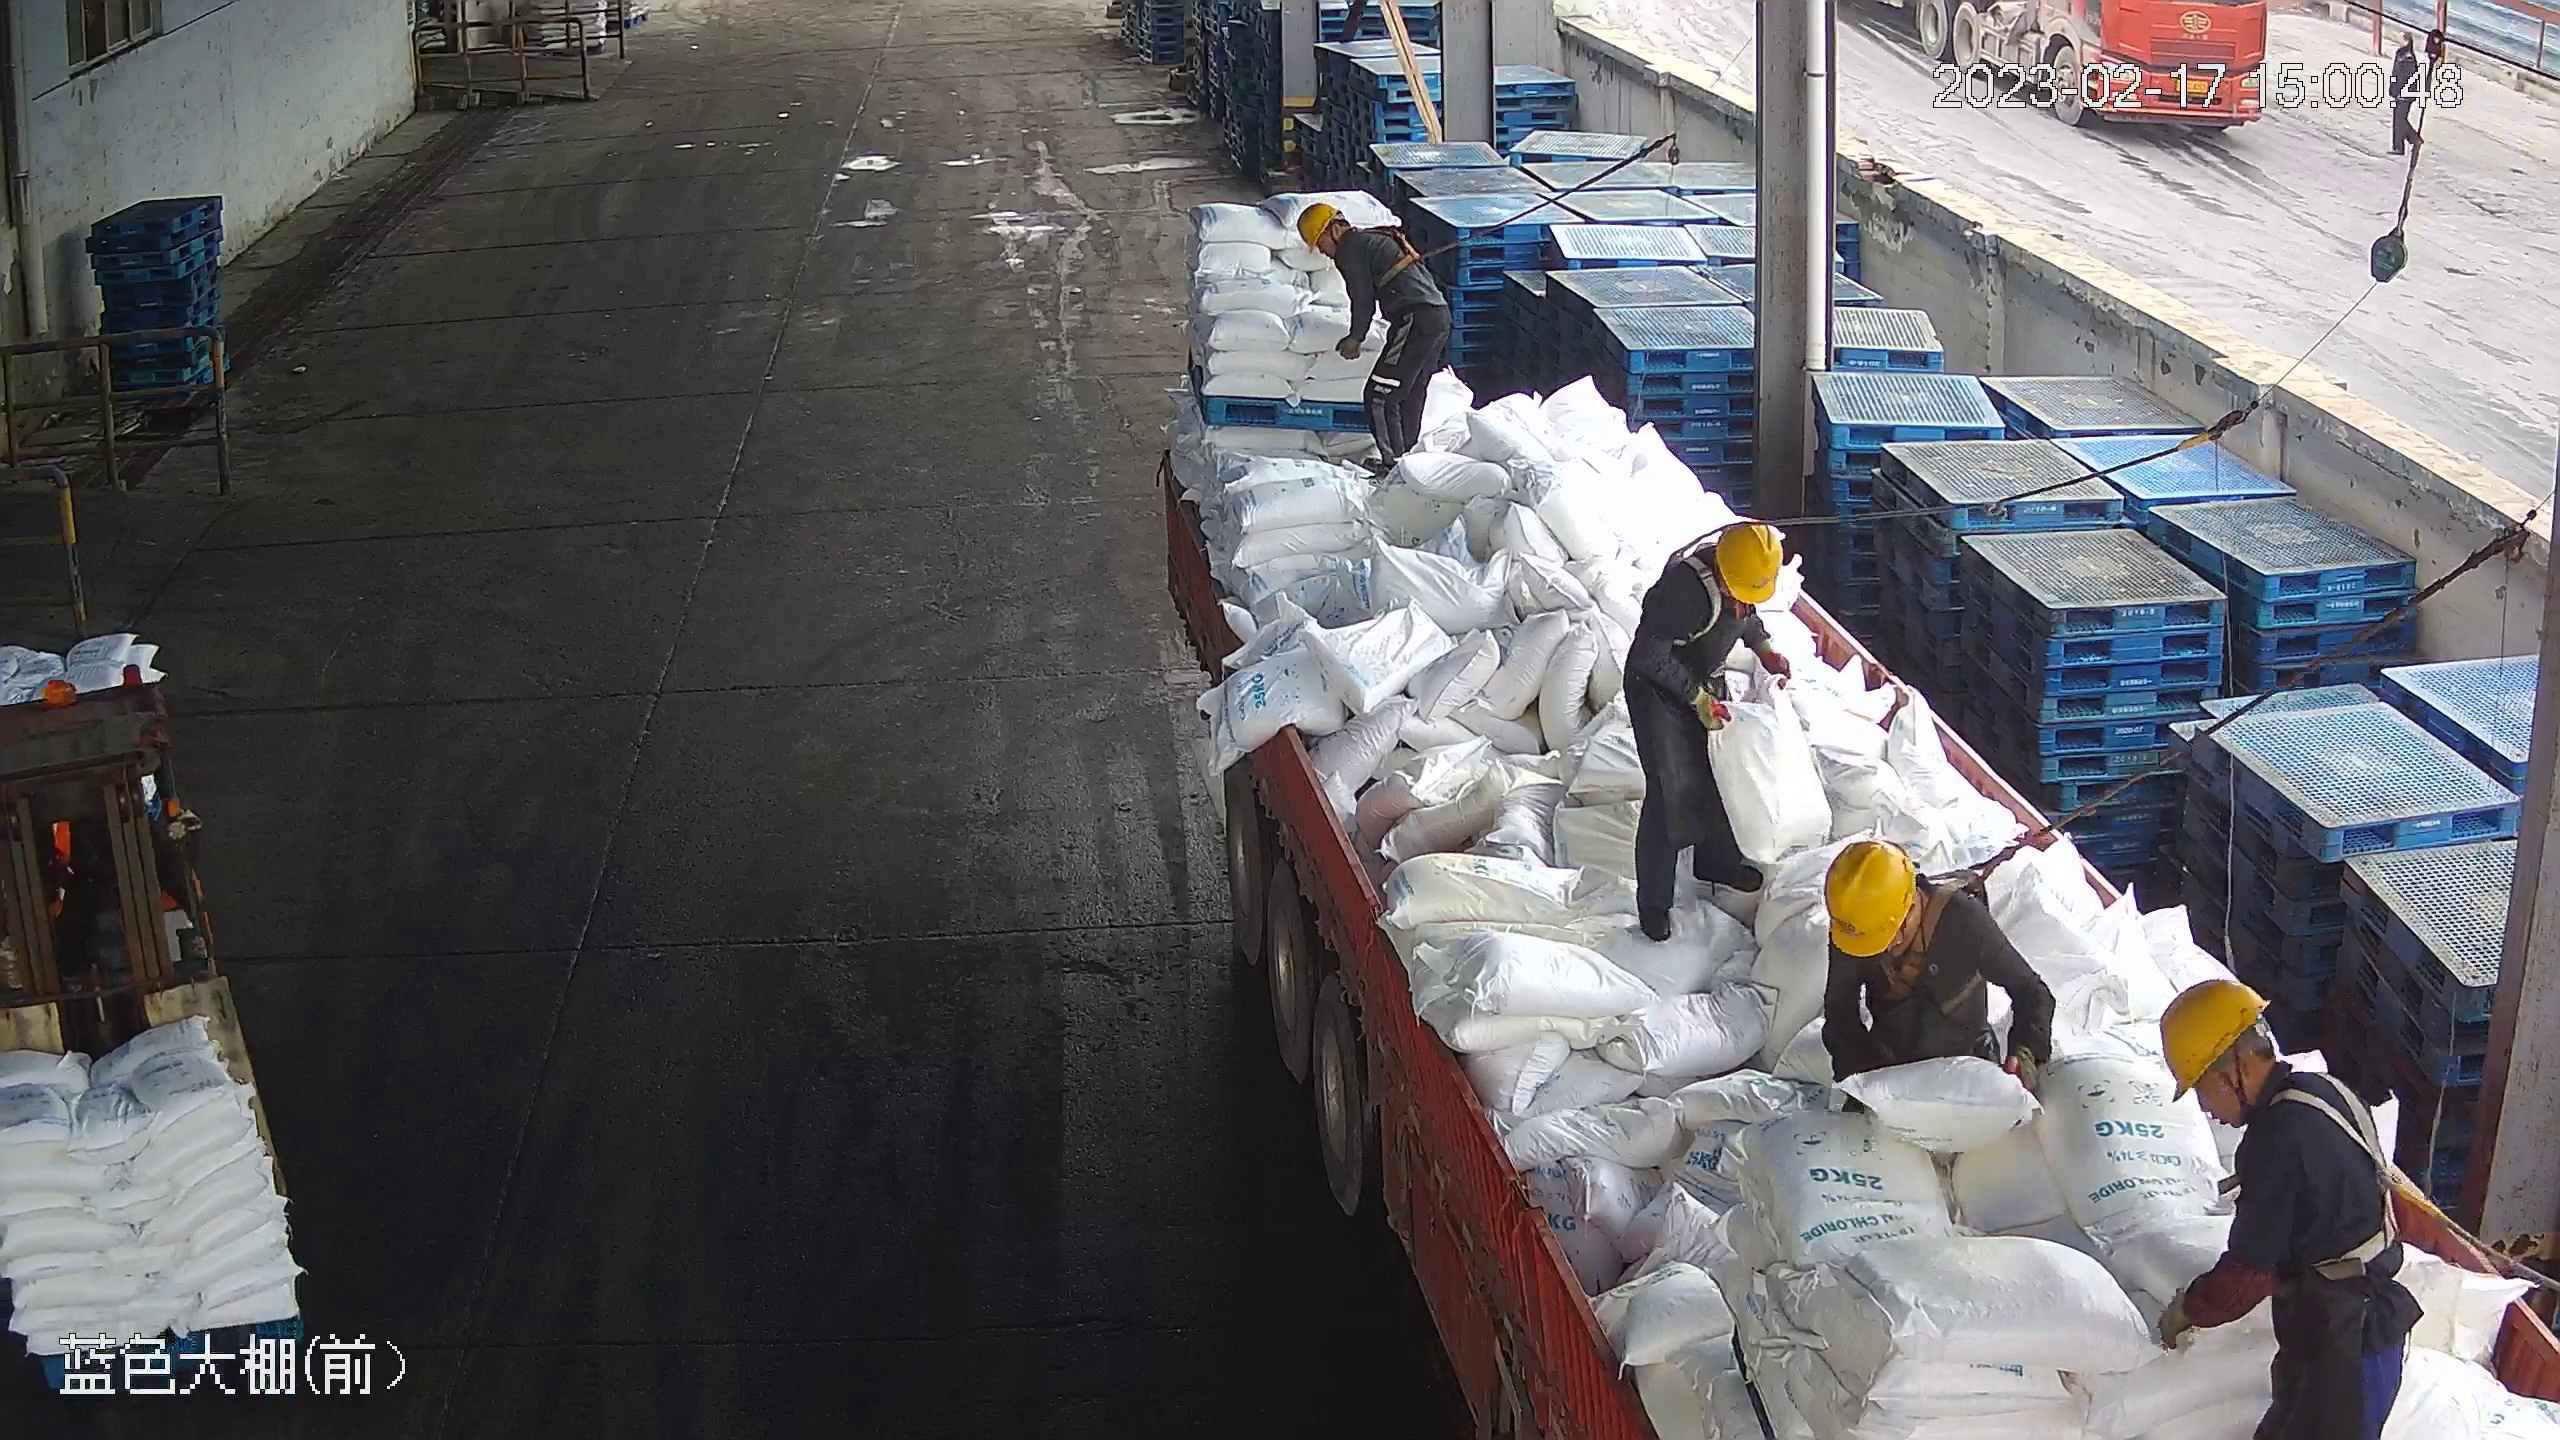belt: (2265, 1065, 2443, 1272), (1889, 857, 2018, 1015), (1651, 547, 1734, 646), (1365, 219, 1437, 293)
head: (2158, 978, 2378, 1209), (1811, 841, 1998, 1012), (1645, 521, 1780, 666), (1295, 201, 1390, 301)
helmet: (2160, 977, 2270, 1100), (1824, 842, 1917, 957), (1718, 520, 1783, 601), (1296, 200, 1343, 254)
people: (2151, 974, 2426, 1440), (1624, 522, 1796, 939), (1296, 203, 1451, 474)
truck: (1157, 403, 2560, 1440)
